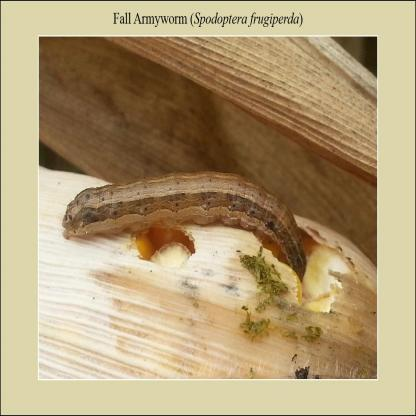armyworm: (62, 168, 313, 280)
